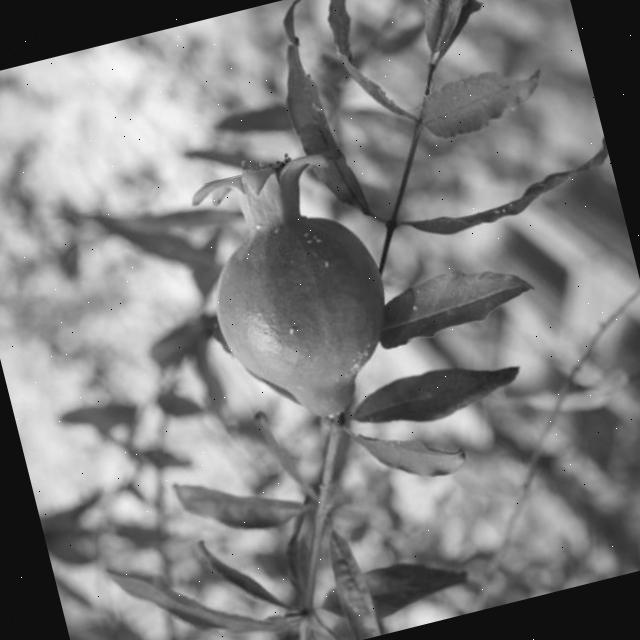Unripe: (180, 134, 413, 440)
